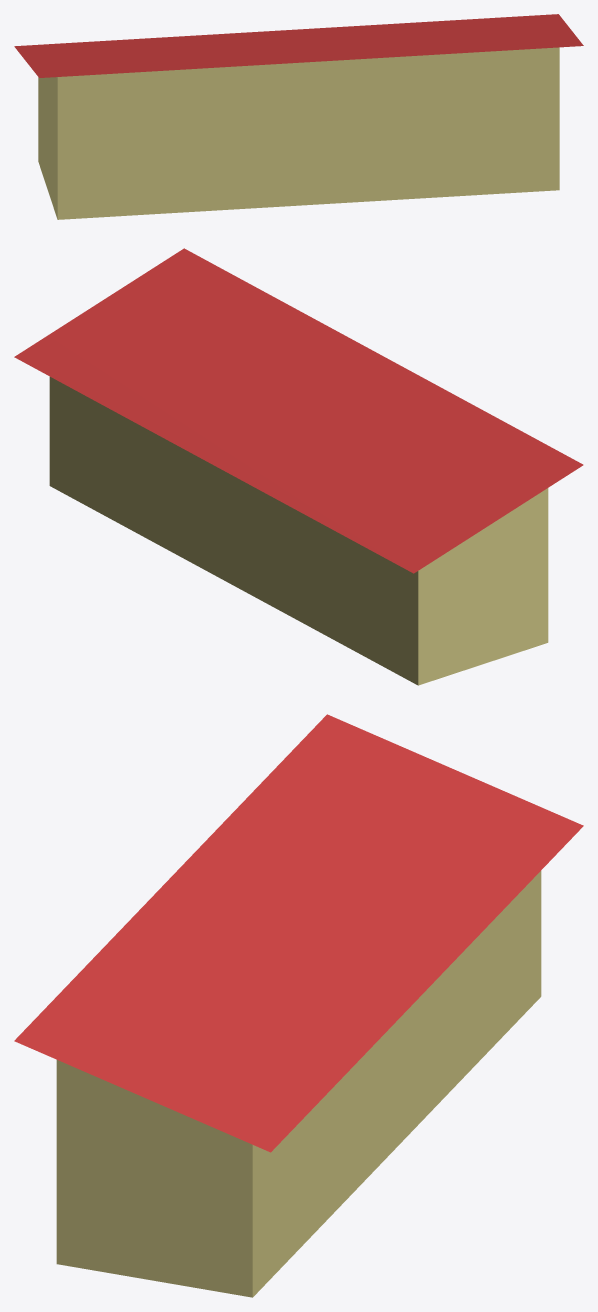
The picture shows the model from 3 angles, top to bottom: view 1: azimuth 30°, elevation 25°; view 2: azimuth 150°, elevation 25°; view 3: azimuth 270°, elevation 25°; orthographic projection. The views are drawn at different scales.
Size of the model in its own units: 26.88 by 17.46 by 7.8.
